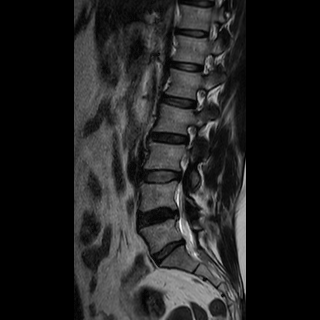RFS0: (184, 82, 209, 116)
